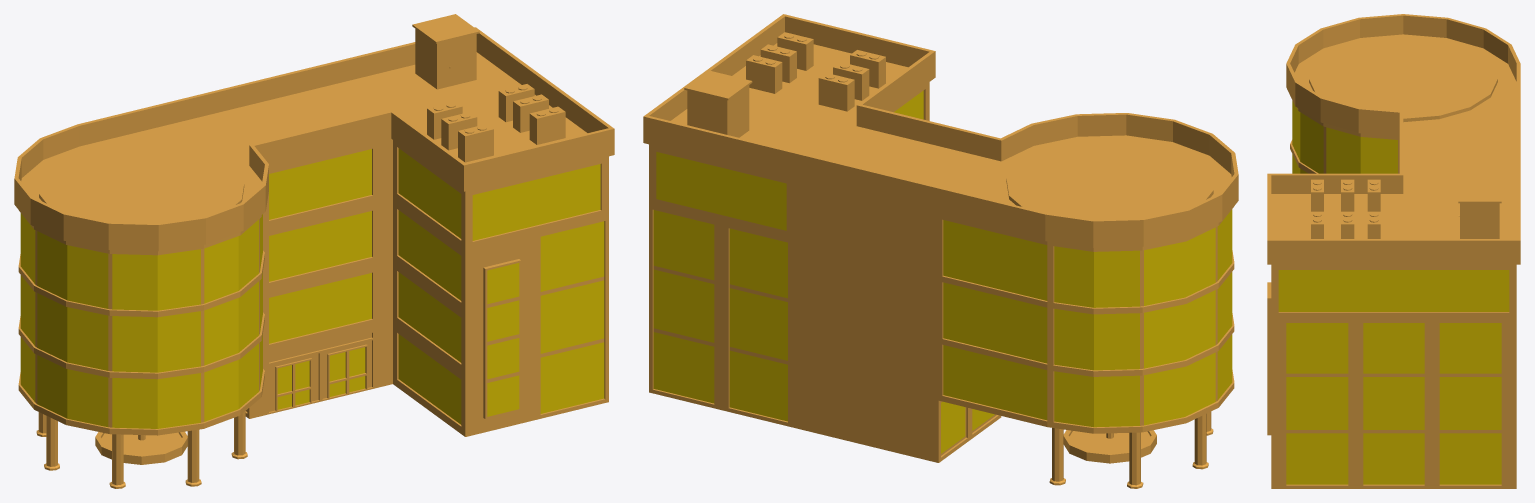
The model's file is Building_19.fbx.
3 renders of one model, left to right at view 1: azimuth 30°, elevation 25°; view 2: azimuth 150°, elevation 25°; view 3: azimuth 270°, elevation 25°, orthographic. The views are drawn at different scales.
Parts seen in each view (by area): view 1: building-mall.002, building-mall.001, building-mall; view 2: building-mall.002, building-mall.001, building-mall; view 3: building-mall.002, building-mall.001, building-mall.
Part boxes in pixels (x1,y1,x2,y2): building-mall.002: [14, 14, 614, 311]; building-mall.001: [18, 260, 608, 488]; building-mall: [18, 198, 608, 372]; building-mall.002: [643, 14, 1238, 308]; building-mall.001: [649, 266, 1234, 488]; building-mall: [649, 205, 1234, 370]; building-mall.002: [1267, 14, 1520, 319]; building-mall.001: [1267, 332, 1516, 488]; building-mall: [1267, 144, 1516, 375].
Bounding box in the file's own units: 5.49 × 3.11 × 2.59.
